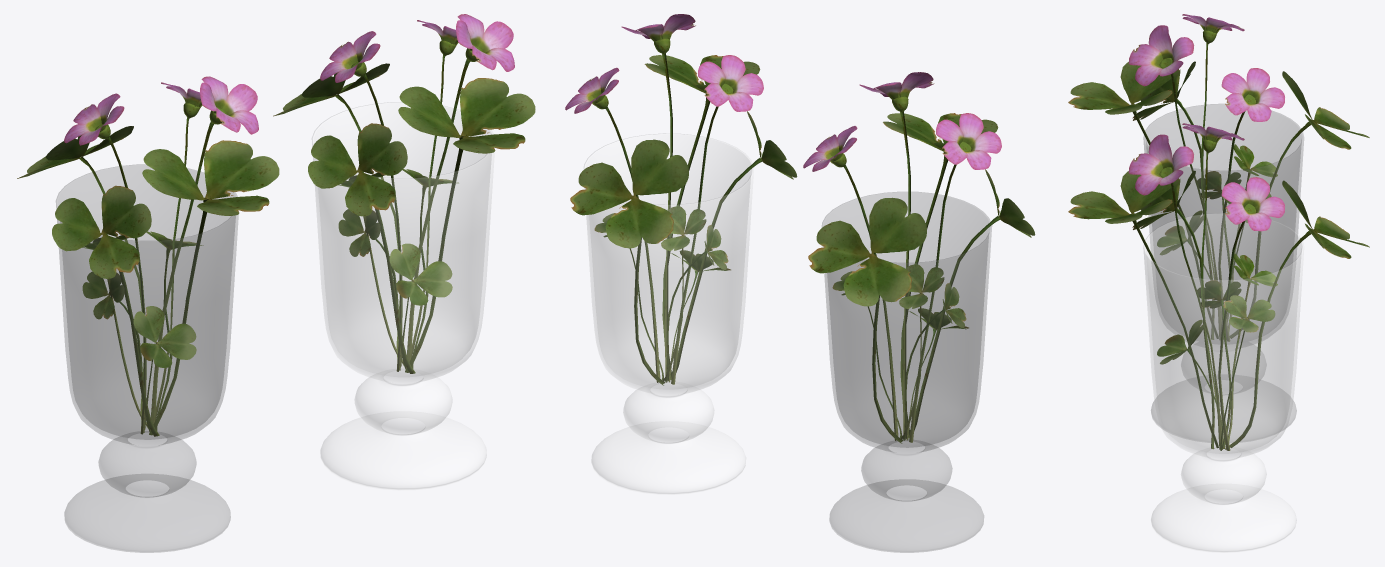
File: GlassVaseFlowers.glb
3 views of the same model, side by side, from view 1: azimuth 30°, elevation 25°; view 2: azimuth 150°, elevation 25°; view 3: azimuth 270°, elevation 25° (orthographic). The views are drawn at different scales.
Visible parts, largest first — view 1: GlassAlpha, GlassTransmission, Flowers2, Flowers1; view 2: GlassAlpha, GlassTransmission, Flowers2, Flowers1; view 3: GlassTransmission, GlassAlpha, Flowers2, Flowers1.
Boxes of the visible parts, left/top/right/bottom form: GlassAlpha: left=56, top=164, right=238, bottom=552; GlassTransmission: left=312, top=102, right=494, bottom=490; Flowers2: left=273, top=14, right=535, bottom=373; Flowers1: left=17, top=76, right=279, bottom=436; GlassAlpha: left=822, top=192, right=991, bottom=552; GlassTransmission: left=584, top=133, right=753, bottom=494; Flowers2: left=565, top=14, right=797, bottom=385; Flowers1: left=803, top=72, right=1035, bottom=443; GlassTransmission: left=1143, top=213, right=1303, bottom=552; GlassAlpha: left=1143, top=104, right=1303, bottom=442; Flowers2: left=1068, top=123, right=1369, bottom=450; Flowers1: left=1068, top=14, right=1369, bottom=341.
Bounding box in the file's own units: 0.2173 × 0.2032 × 0.1425.
3 materials, 1 textured.
